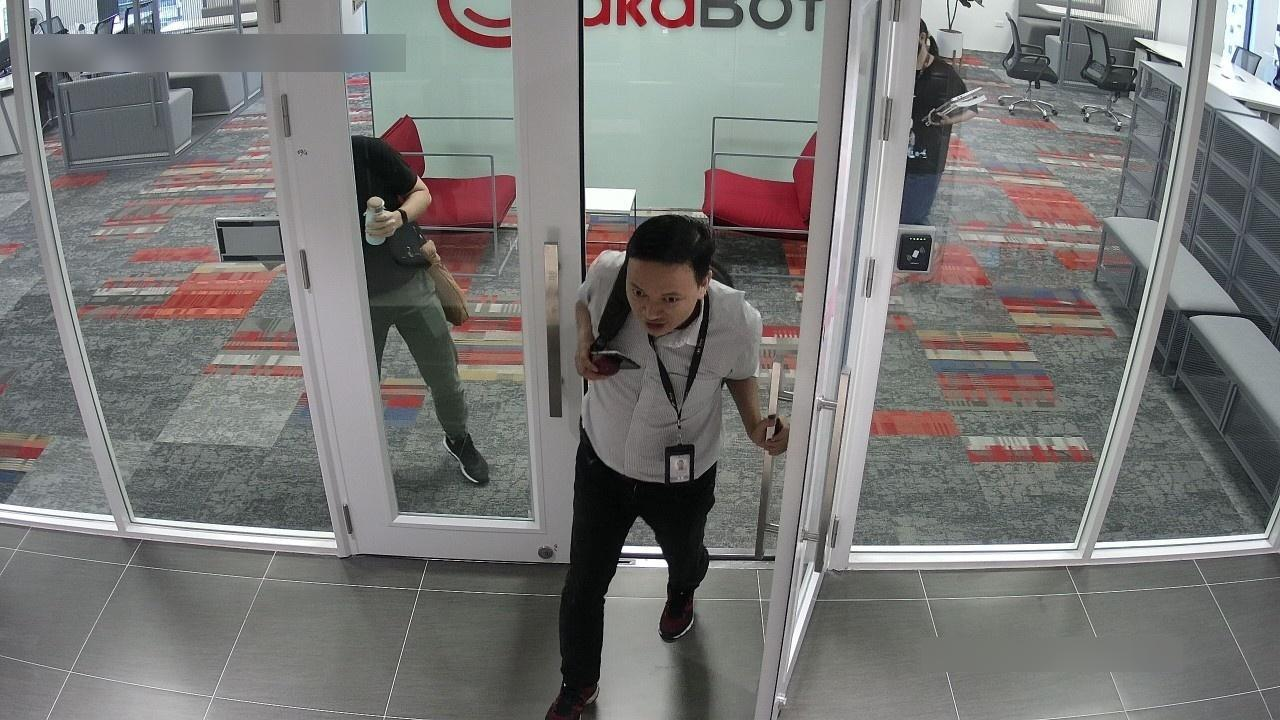gloves: (613, 209, 731, 278)
no_apron: (743, 398, 801, 463), (554, 326, 610, 393), (371, 198, 417, 248)
no_hairnet: (622, 253, 702, 336)
